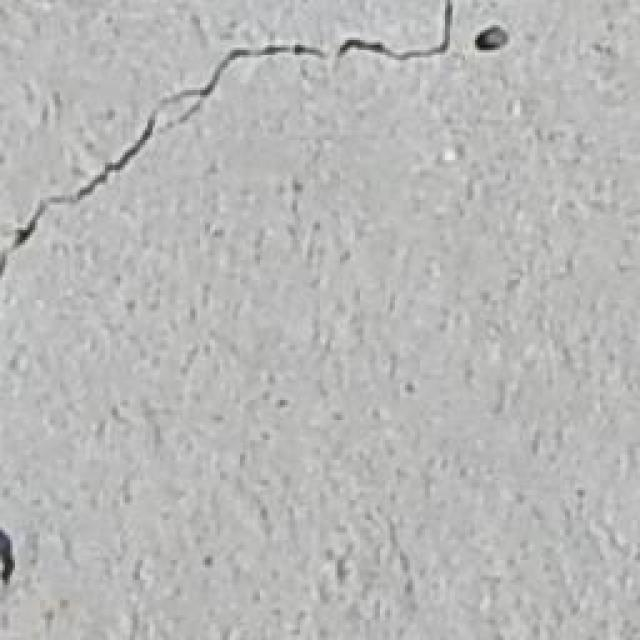concrete-crack: (6, 1, 460, 281)
